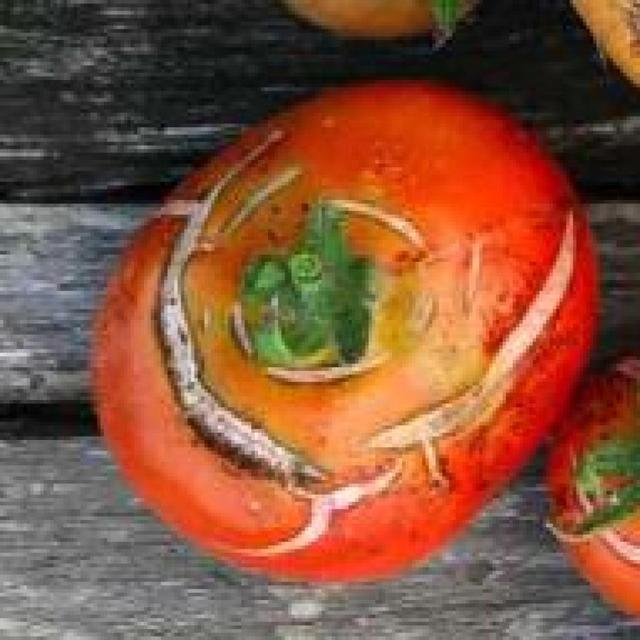Cracking Fruit: (50, 57, 400, 343)
